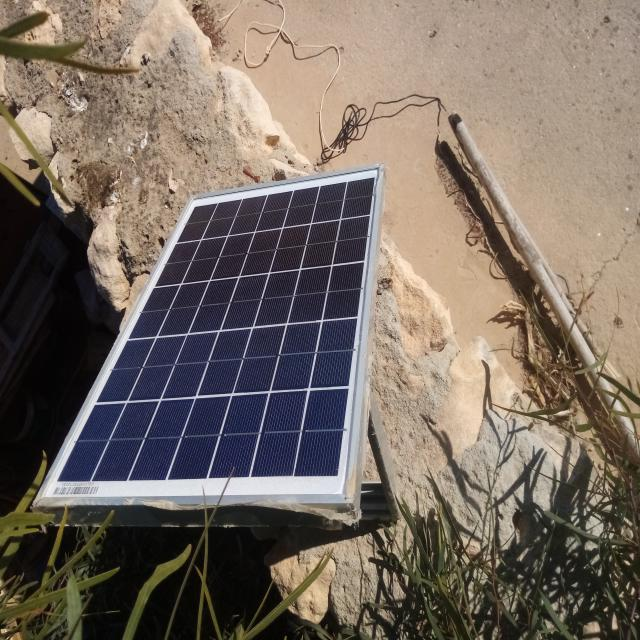no faulty: (34, 166, 382, 507)
